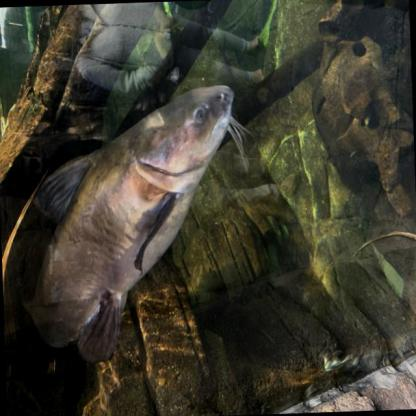fish: (13, 84, 243, 372)
